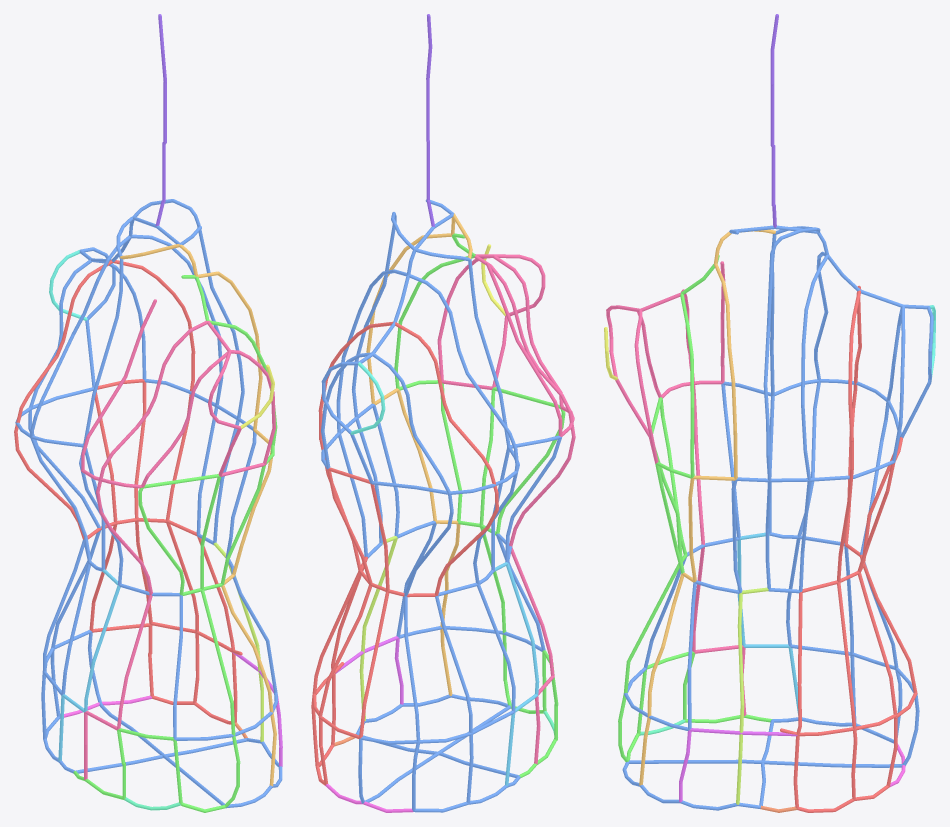
The model's file is curvefusion_bust.gltf.
The picture shows the model from 3 angles, left to right: view 1: azimuth 30°, elevation 25°; view 2: azimuth 150°, elevation 25°; view 3: azimuth 270°, elevation 25°; orthographic projection. The views are drawn at different scales.
Size of the model in its own units: 0.2495 by 0.9051 by 0.3591.
